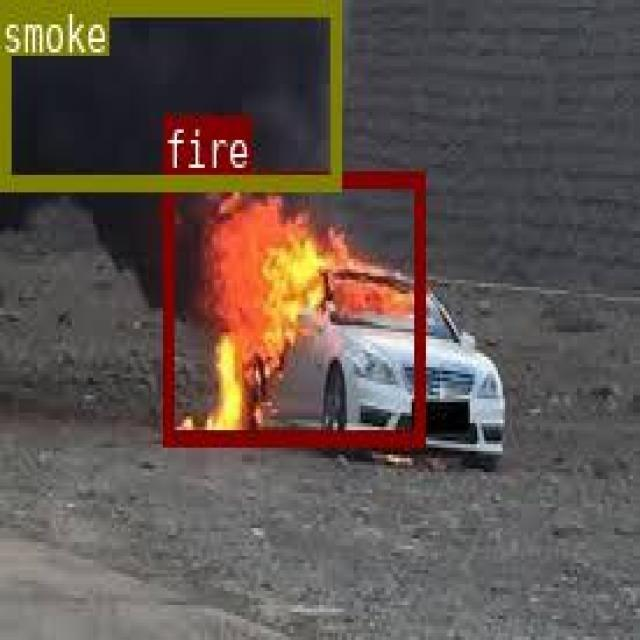fire: (163, 170, 422, 444)
smoke: (0, 0, 337, 189)
